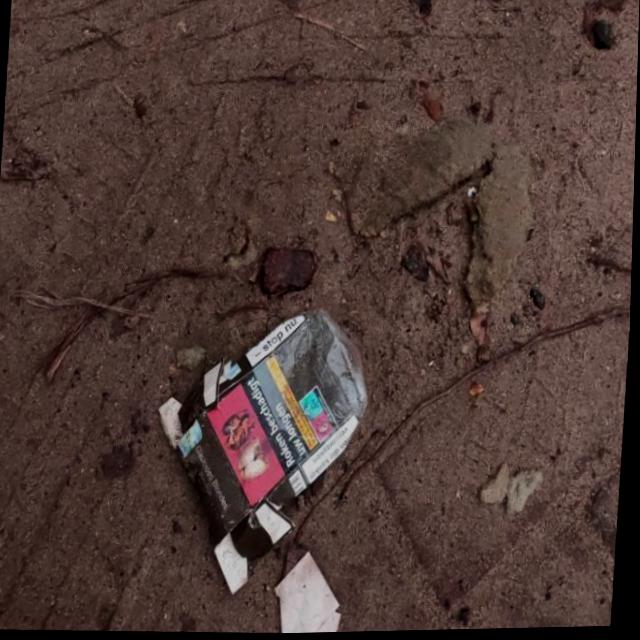Paper: (147, 299, 378, 608)
